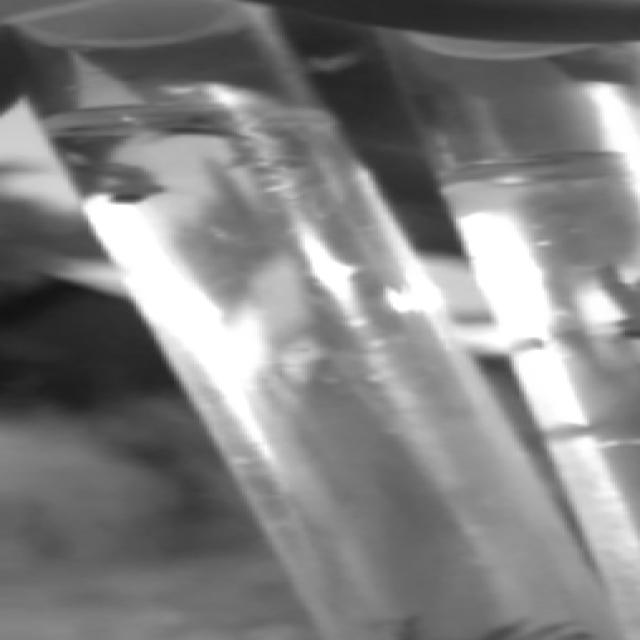larvas: (73, 154, 162, 204), (598, 267, 640, 335)
